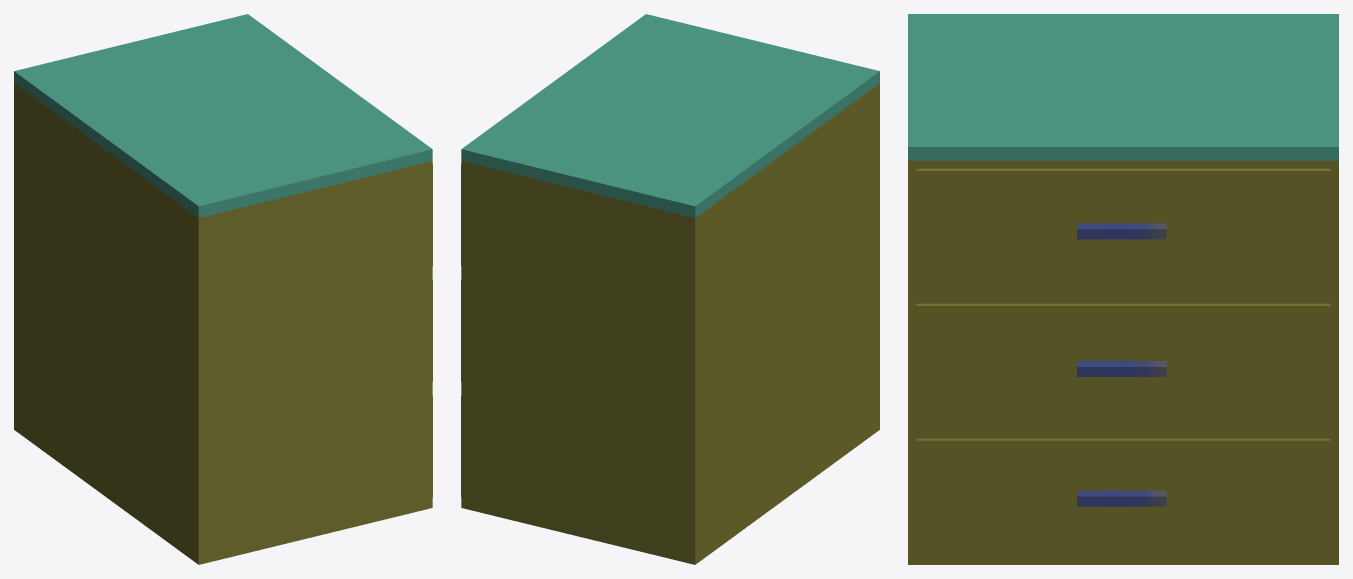
File: Kitchen_Cabinet.fbx
The picture shows the model from 3 angles, left to right: view 1: azimuth 30°, elevation 25°; view 2: azimuth 150°, elevation 25°; view 3: azimuth 270°, elevation 25°; orthographic projection. The views are drawn at different scales.
Visible parts, largest first — view 1: Kitchen_Cabinet; view 2: Kitchen_Cabinet; view 3: Kitchen_Cabinet.
Boxes of the visible parts, box(x1,y1,x2,y2) form: Kitchen_Cabinet: box(14, 14, 432, 564); Kitchen_Cabinet: box(461, 14, 879, 564); Kitchen_Cabinet: box(908, 14, 1338, 564).
Size of the model in its own units: 93.63 by 129 by 121.
